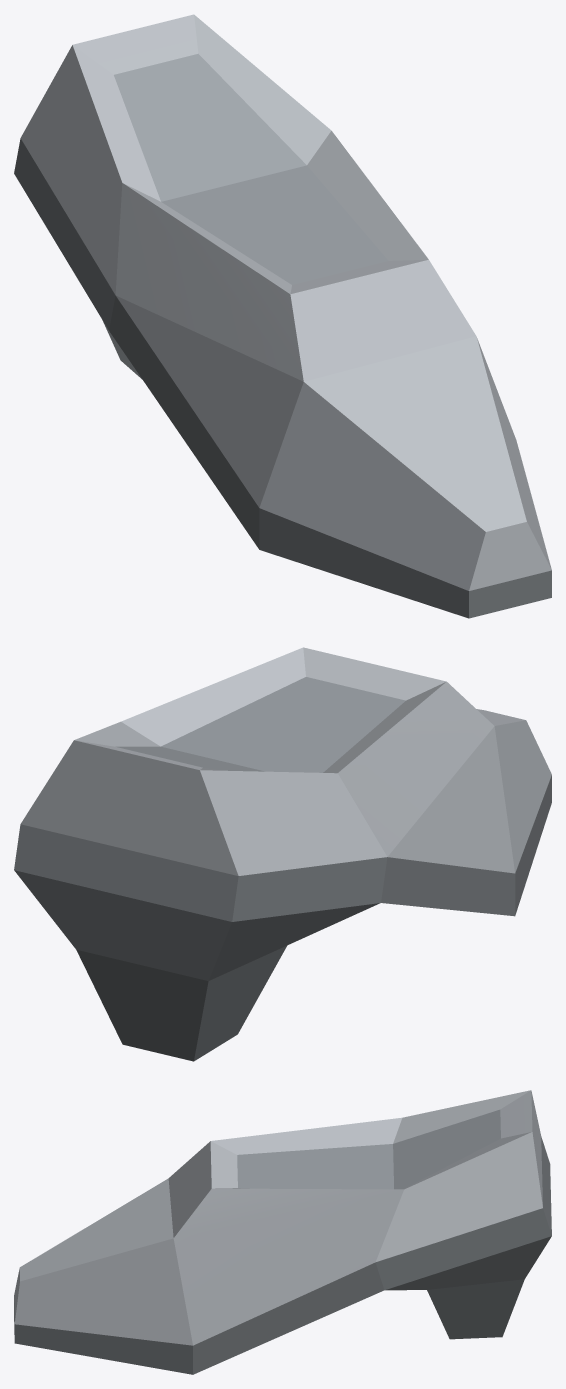
The model's file is SM_Prop_Clothes_Shoe_07.obj.
3 renders of one model, top to bottom at view 1: azimuth 30°, elevation 25°; view 2: azimuth 150°, elevation 25°; view 3: azimuth 270°, elevation 25°, orthographic. The views are drawn at different scales.
Visible parts, largest first — view 1: SM_Prop_Clothes_Shoe_07_0; view 2: SM_Prop_Clothes_Shoe_07_0; view 3: SM_Prop_Clothes_Shoe_07_0.
Boxes of the visible parts, <box> form: SM_Prop_Clothes_Shoe_07_0: <box>14,14,551,618</box>; SM_Prop_Clothes_Shoe_07_0: <box>14,647,551,1061</box>; SM_Prop_Clothes_Shoe_07_0: <box>14,1090,551,1374</box>.
Bounding box in the file's own units: 0.1291 × 0.1401 × 0.3164.
Materials: 1 (1 with a texture image).
